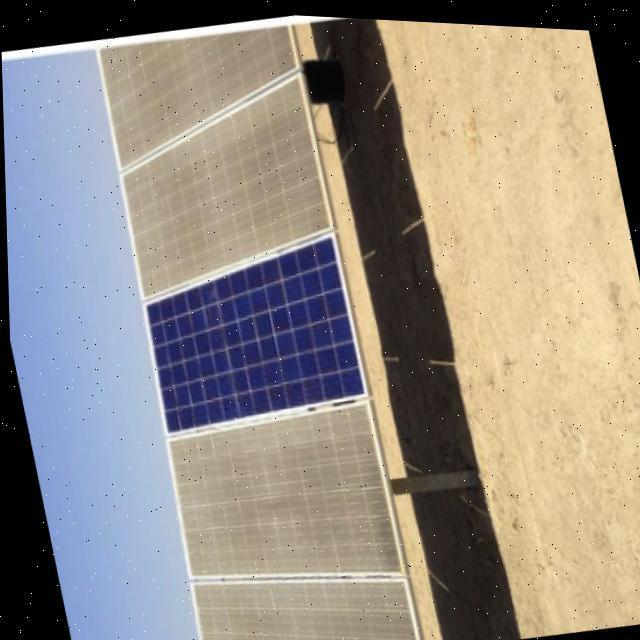Surface Contaminant: (95, 26, 332, 297), (163, 398, 411, 640)
